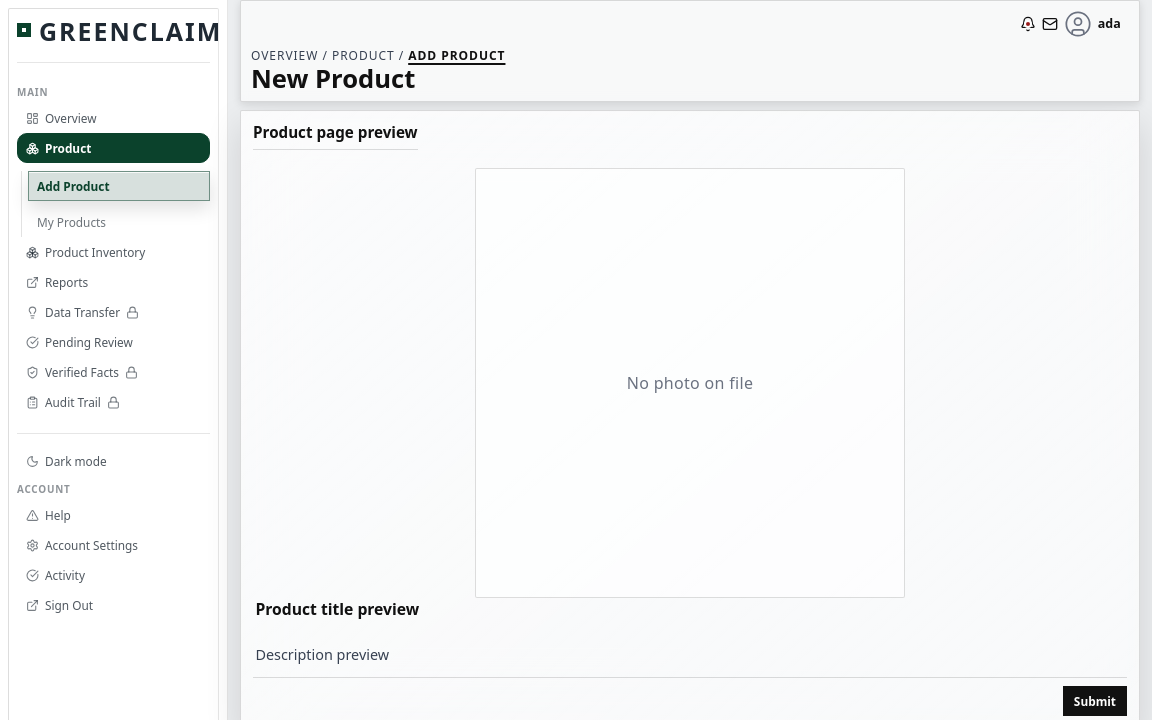
Scenario: a Copywriter › a draft can be discarded straight from My Products, without opening it first
Step 1. Click the button "My Products" → (119,222), box [28, 207, 210, 237]
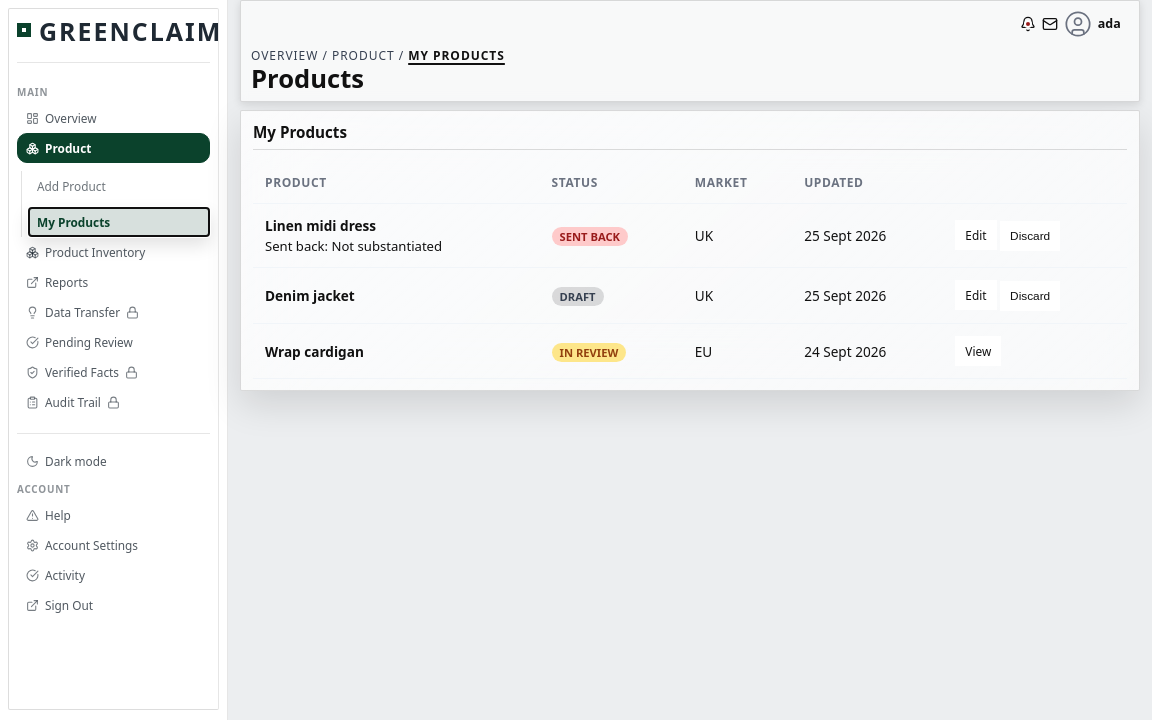
Step 2. Click the button with aria-label "Discard this draft: Denim jacket" → (1030,296), box [1000, 281, 1060, 311]
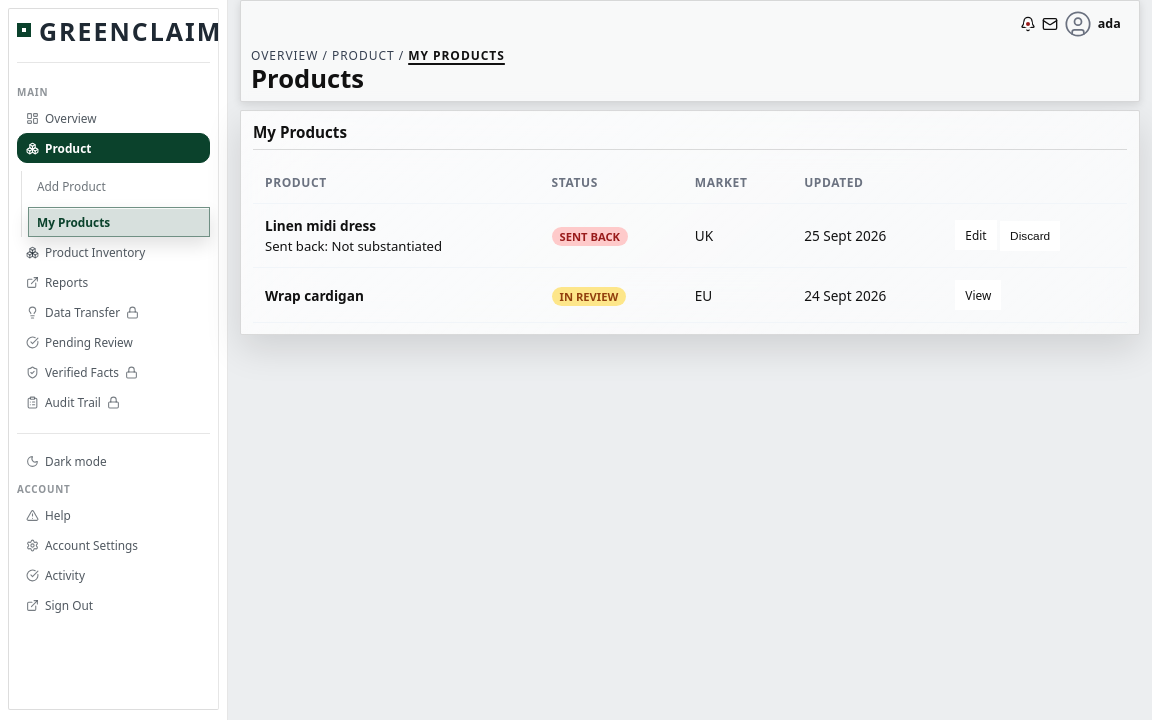
Now the text "Denim jacket" is gone
